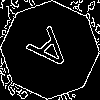A: (25, 25, 81, 82)
